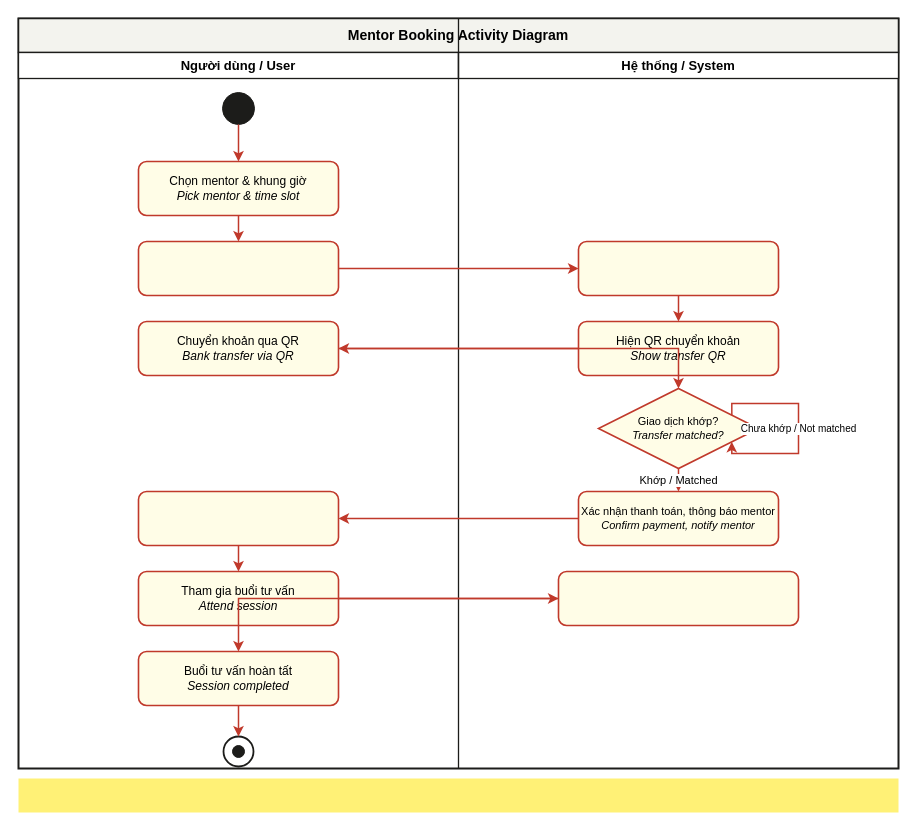
Some shapes in this 916 by 829 pixel diagram are drawn without their labels. Here are the shapes that lost their labels. From the top down, the centre of each, then its label:
(x=238, y=268): Xác nhận đặt lịch Confirm booking
(x=678, y=268): Tạo booking (chờ thanh toán) Create booking (pending)
(x=238, y=518): Xem lịch đã xác nhận See confirmed booking
(x=678, y=598): Mentor hoàn thành buổi, cộng thu nhập Mentor completes, credit earnings
(x=458, y=795): Figure X.X.X : Mentor Booking (Đặt lịch Mentor)
